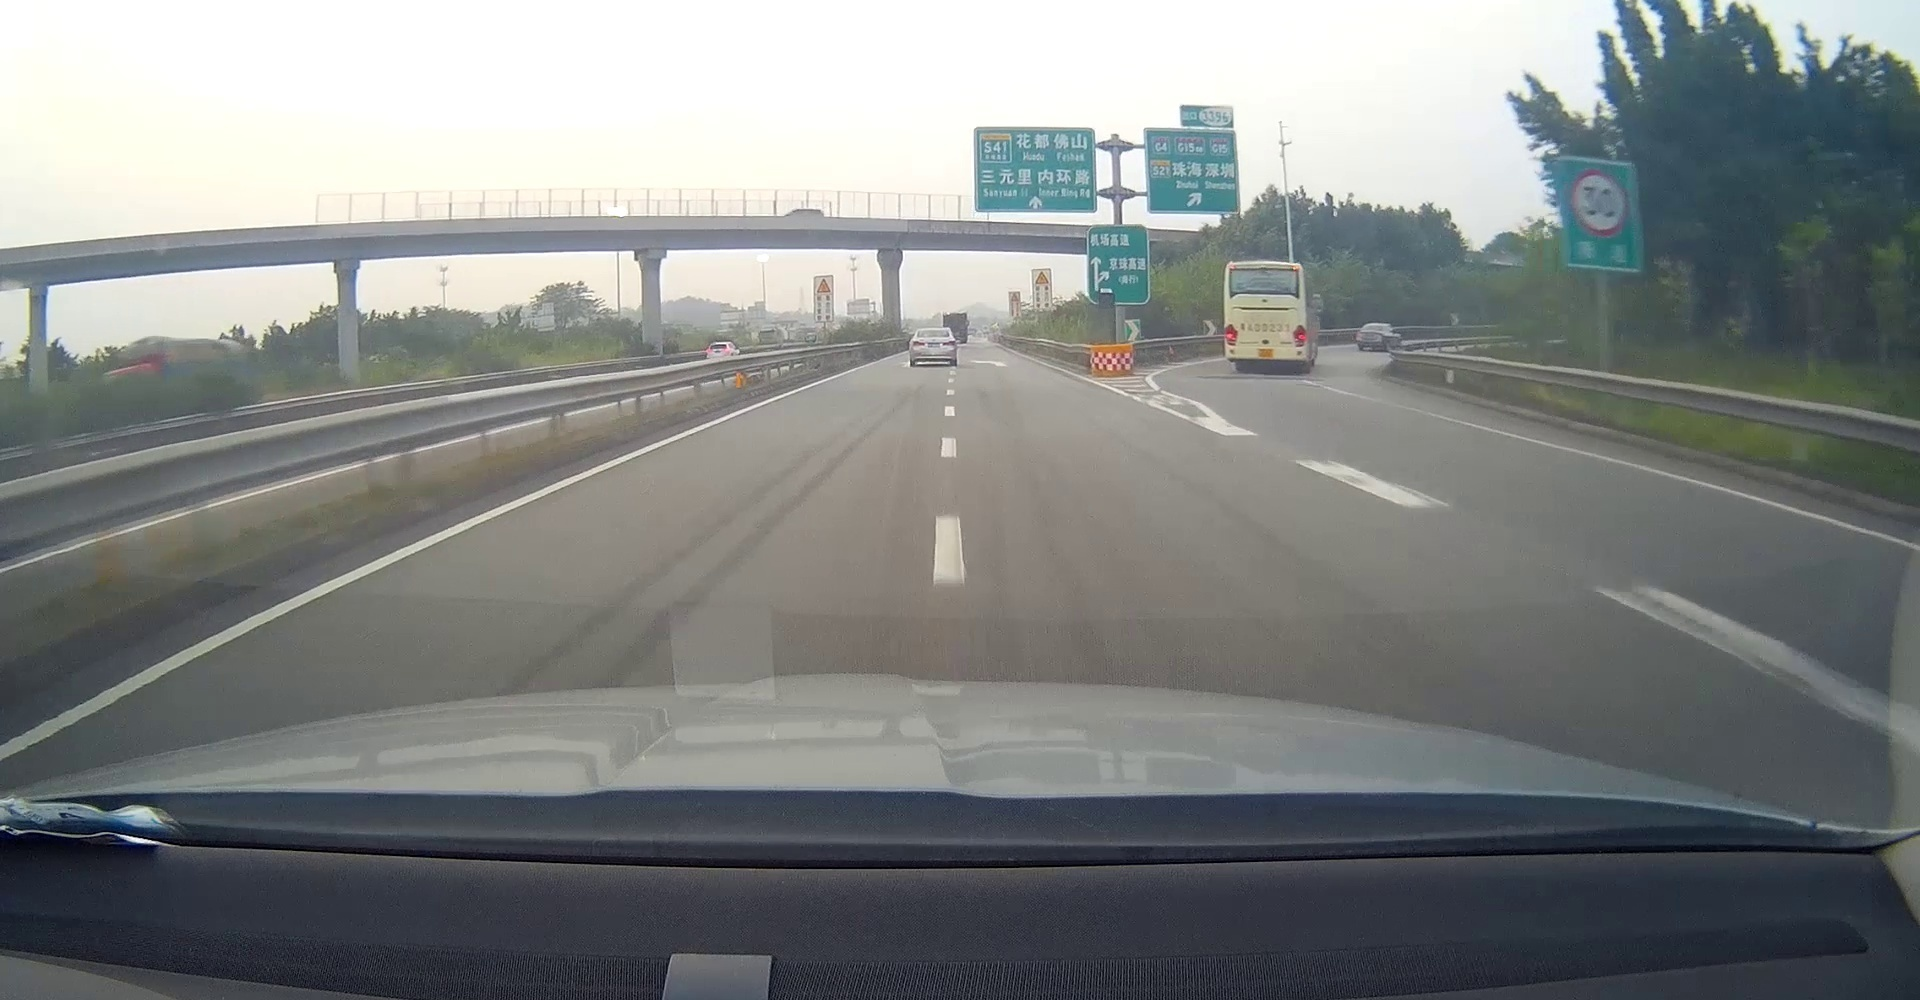L_light: (1223, 324, 1237, 346), (913, 341, 924, 346)
R_light: (1291, 325, 1307, 346), (943, 341, 955, 345)
T_light: (1247, 287, 1275, 291), (930, 330, 938, 331)
day-no: (1222, 260, 1309, 372), (910, 327, 956, 367)
